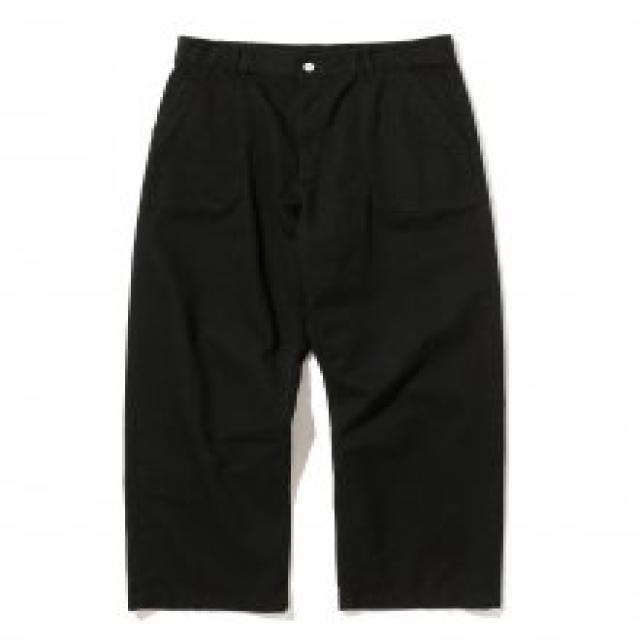long-pants: (122, 30, 508, 612)
